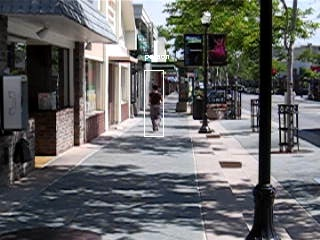person: (149, 83, 164, 134), (148, 83, 163, 134), (150, 83, 165, 134), (149, 82, 164, 133), (149, 84, 164, 135)
target_negative: (110, 145, 284, 190), (308, 8, 320, 234), (240, 102, 263, 213), (258, 164, 319, 181), (217, 89, 318, 98), (243, 197, 285, 217)
